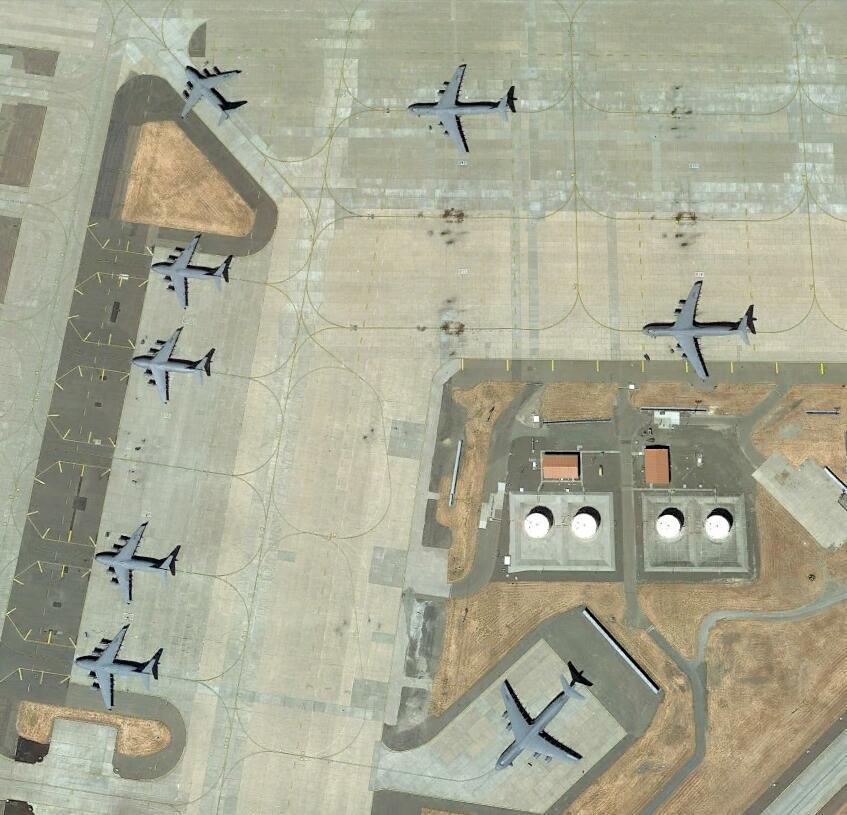A3: (73, 621, 158, 714), (97, 521, 174, 602), (130, 326, 210, 403), (149, 231, 229, 306), (180, 64, 245, 125)
A4: (641, 275, 753, 380), (410, 61, 509, 156), (493, 673, 587, 772)
